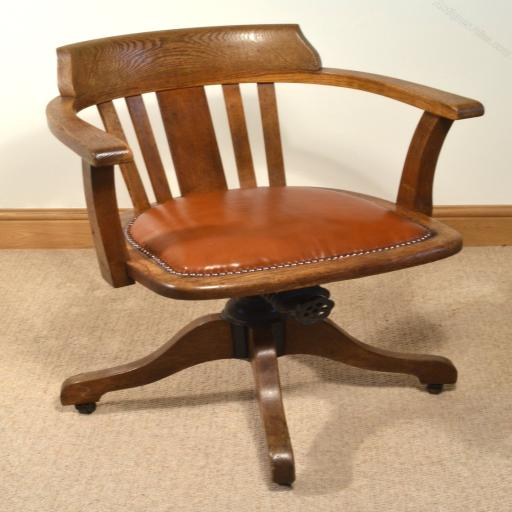chair: (44, 23, 484, 486)
wall: (0, 0, 512, 249)
